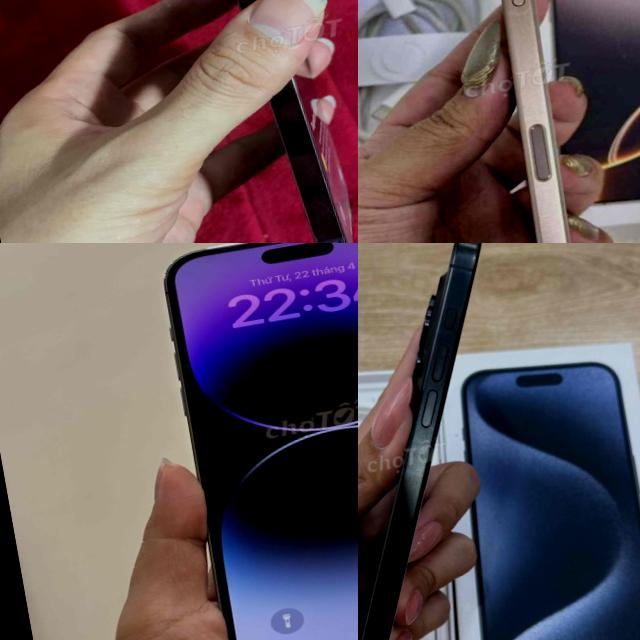gen_14: (142, 243, 358, 640), (169, 0, 358, 243)
gen_15: (358, 243, 571, 640)
gen_16: (410, 0, 621, 243)
scratch: (396, 434, 442, 486)
